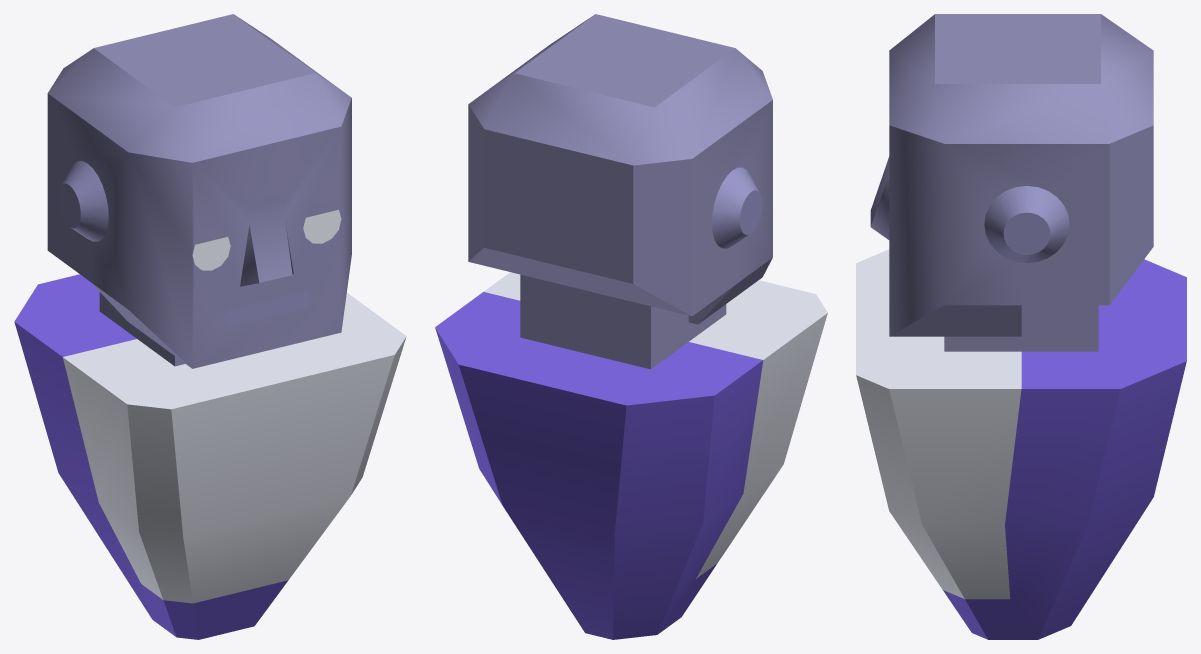
The model's file is Character_Robot.fbx.
3 renders of one model, left to right at view 1: azimuth 30°, elevation 25°; view 2: azimuth 150°, elevation 25°; view 3: azimuth 270°, elevation 25°, orthographic. The views are drawn at different scales.
Parts seen in each view (by area): view 1: mergedBlocks; view 2: mergedBlocks; view 3: mergedBlocks.
Boxes of the visible parts, x1,y1,x2,y2 form: mergedBlocks: (14, 14, 406, 639); mergedBlocks: (435, 14, 827, 639); mergedBlocks: (856, 14, 1186, 639).
Size of the model in its own units: 3 by 5.7 by 3.
